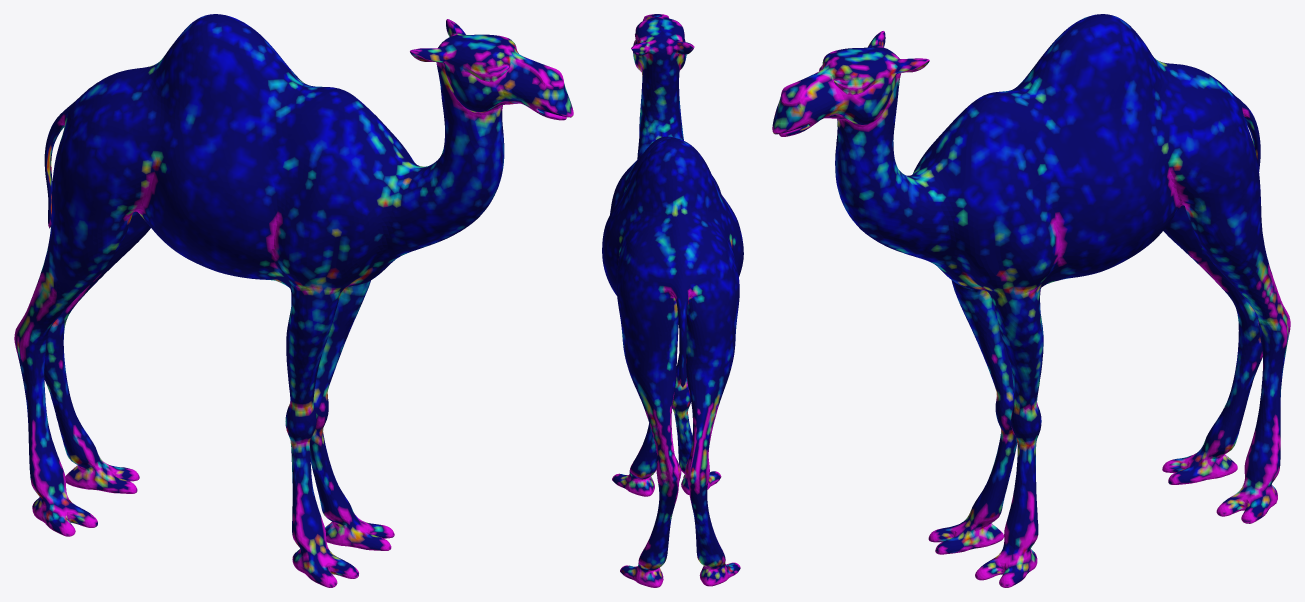
File: camel_residus_3nn.obj
3 renders of one model, left to right at view 1: azimuth 30°, elevation 25°; view 2: azimuth 150°, elevation 25°; view 3: azimuth 270°, elevation 25°, orthographic. The views are drawn at different scales.
Bounding box in the file's own units: 0.6039 × 0.9779 × 0.8482.
